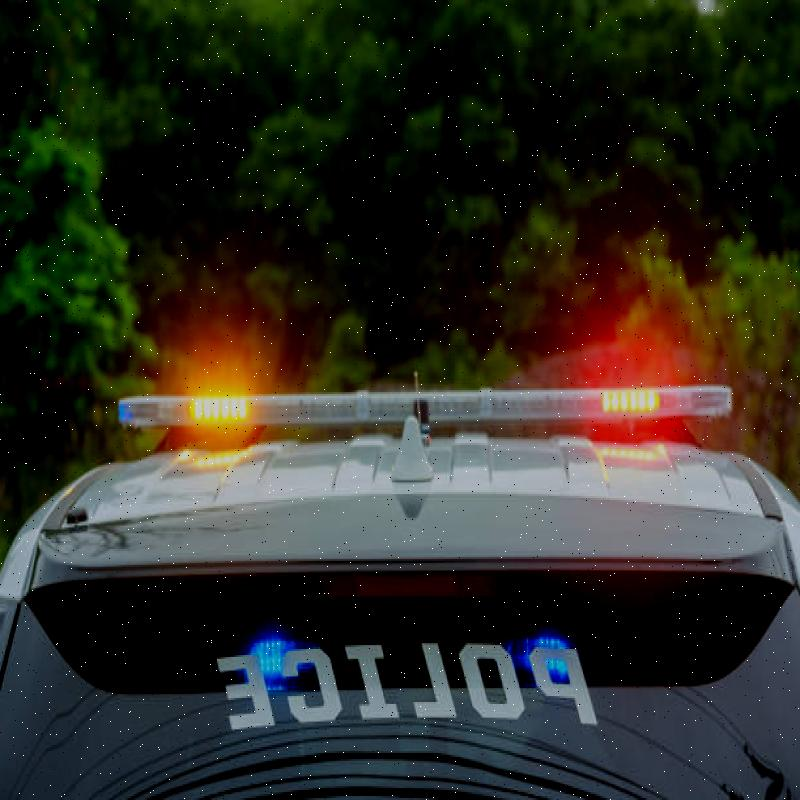AmbulanceSiren: (97, 344, 747, 456)
